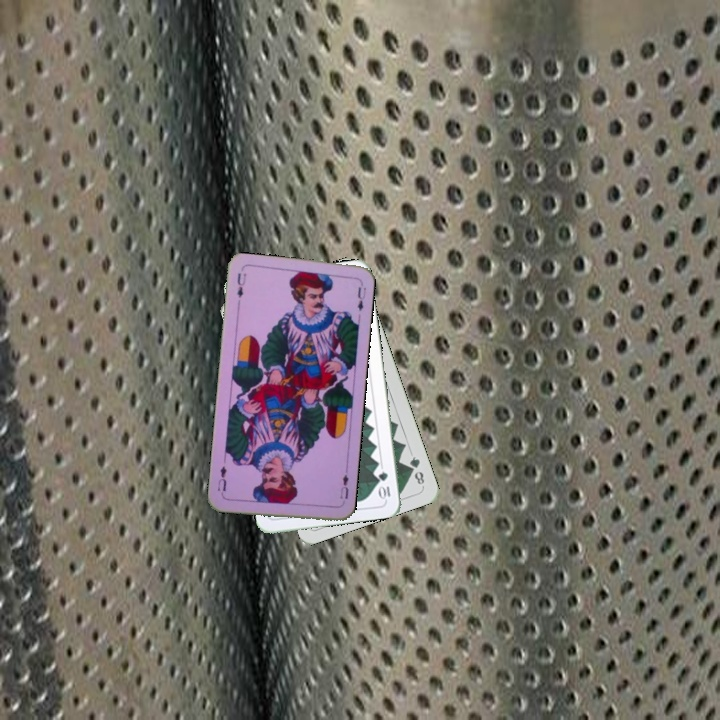EU: (336, 471, 351, 507), (233, 269, 249, 300)
G10: (375, 468, 393, 502)
G8: (405, 452, 427, 487)
